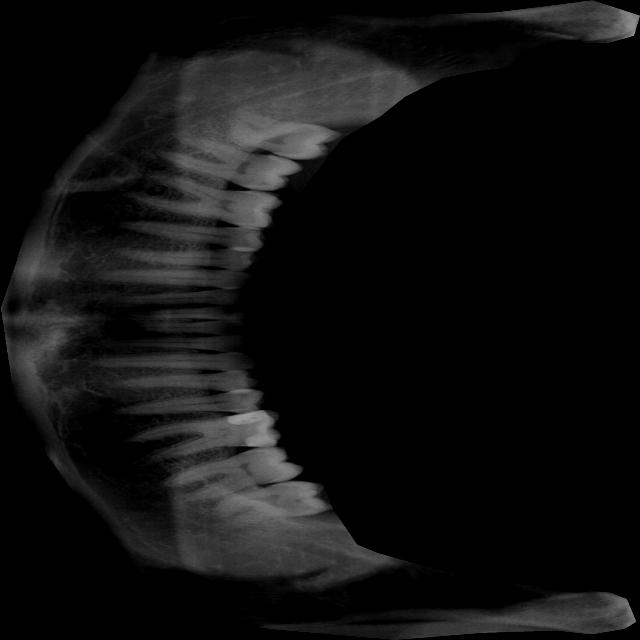mandibula: (0, 0, 639, 640)
